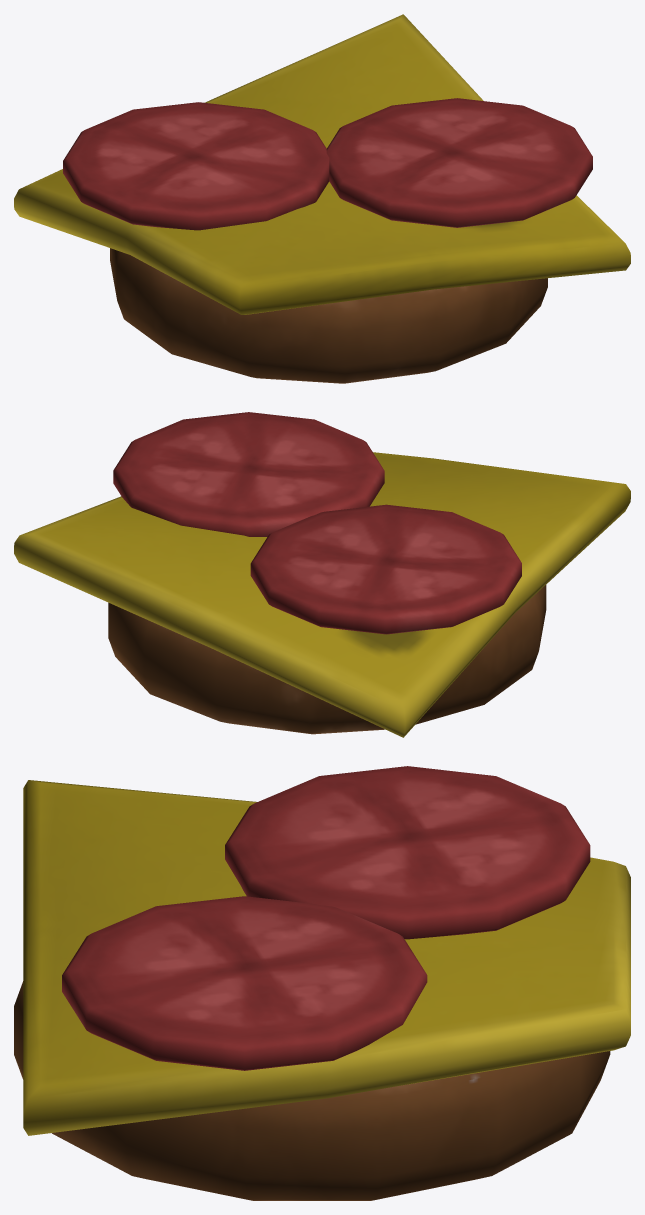
File: MSH_C_Q_J.fbx
3 renders of one model, top to bottom at view 1: azimuth 30°, elevation 25°; view 2: azimuth 150°, elevation 25°; view 3: azimuth 270°, elevation 25°, orthographic. The views are drawn at different scales.
Visible parts, largest first — view 1: MSH_C_Q_J; view 2: MSH_C_Q_J; view 3: MSH_C_Q_J.
Boxes of the visible parts, x1,y1,x2,y2 form: MSH_C_Q_J: (14, 14, 630, 383); MSH_C_Q_J: (14, 412, 630, 737); MSH_C_Q_J: (14, 766, 630, 1200).
Size of the model in its own units: 14.51 by 13.3 by 4.95.
Materials: 1 (1 with a texture image).
